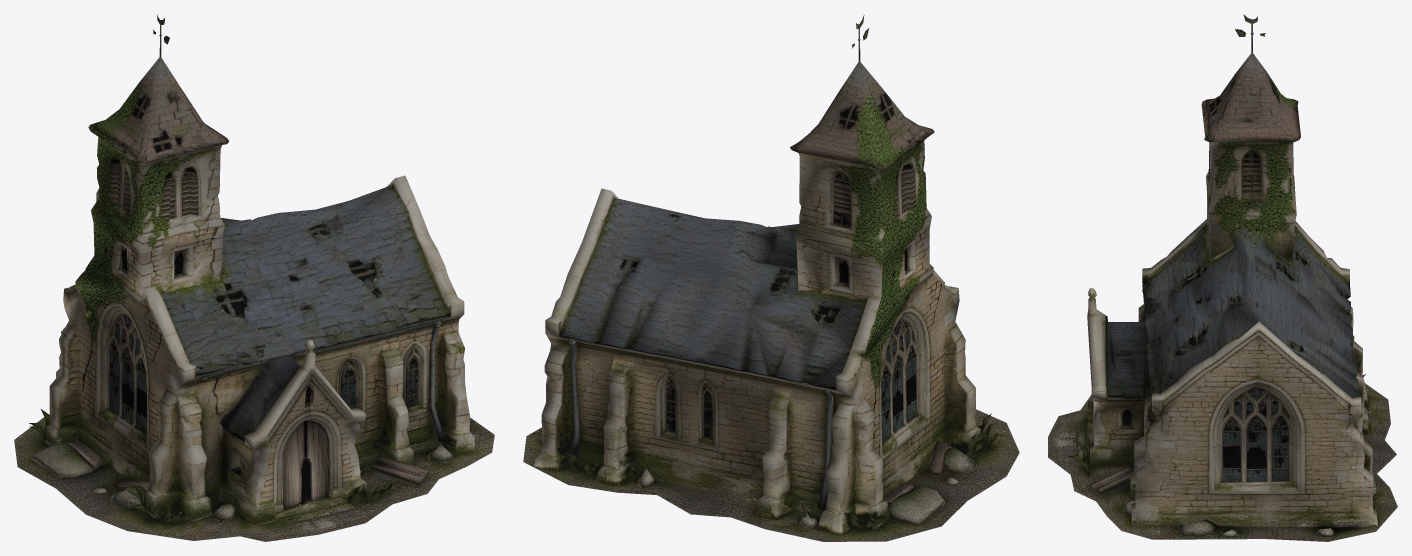
File: abandoned+church+3d+model.glb
3 renders of one model, left to right at view 1: azimuth 30°, elevation 25°; view 2: azimuth 150°, elevation 25°; view 3: azimuth 270°, elevation 25°, orthographic. The views are drawn at different scales.
Parts seen in each view (by area): view 1: tripo_node_4752c421-112e-416d-8989-168323482698; view 2: tripo_node_4752c421-112e-416d-8989-168323482698; view 3: tripo_node_4752c421-112e-416d-8989-168323482698.
Boxes of the visible parts, left/top/right/bottom form: tripo_node_4752c421-112e-416d-8989-168323482698: left=14, top=14, right=494, bottom=541; tripo_node_4752c421-112e-416d-8989-168323482698: left=523, top=15, right=1019, bottom=541; tripo_node_4752c421-112e-416d-8989-168323482698: left=1048, top=14, right=1397, bottom=541.
Bounding box in the file's own units: 0.9199 × 0.998 × 0.7832.
1 material, 1 textured.
